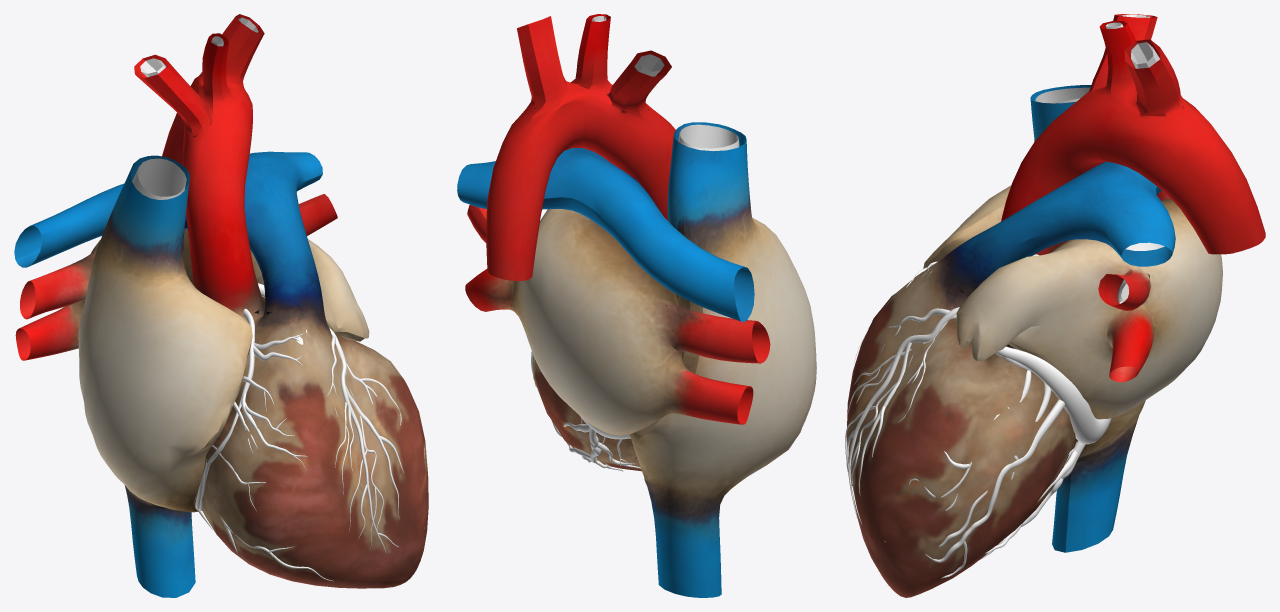
The picture shows the model from 3 angles, left to right: view 1: azimuth 30°, elevation 25°; view 2: azimuth 150°, elevation 25°; view 3: azimuth 270°, elevation 25°; orthographic projection. The views are drawn at different scales.
Parts seen in each view (by area): view 1: Circulato+circula.011, Circulato+circula.012, Circulato+default_s.001, Circulato+circula.009, Circulato+circula.010; view 2: Circulato+circula.011, Circulato+circula.009, Circulato+default_s.001, Circulato+circula.010; view 3: Circulato+circula.011, Circulato+default_s.001, Circulato+circula.012, Circulato+circula.010, Circulato+circula.009.
Part boxes in pixels (box(x1,y1,x2,y2)): Circulato+circula.011: box(14, 14, 428, 597); Circulato+circula.012: box(199, 283, 426, 581); Circulato+default_s.001: box(195, 363, 424, 548); Circulato+circula.009: box(132, 158, 306, 344); Circulato+circula.010: box(140, 17, 258, 77); Circulato+circula.011: box(457, 14, 816, 597); Circulato+circula.009: box(678, 124, 739, 151); Circulato+default_s.001: box(531, 351, 640, 471); Circulato+circula.010: box(592, 16, 664, 76); Circulato+circula.011: box(846, 14, 1265, 597); Circulato+default_s.001: box(845, 315, 1111, 578); Circulato+circula.012: box(846, 254, 1076, 547); Circulato+circula.010: box(1105, 14, 1159, 303); Circulato+circula.009: box(922, 87, 1164, 276).
Size of what is drawn, in the model's own units: 0.5413 by 0.9065 by 0.6172.
7 materials, 1 textured.
